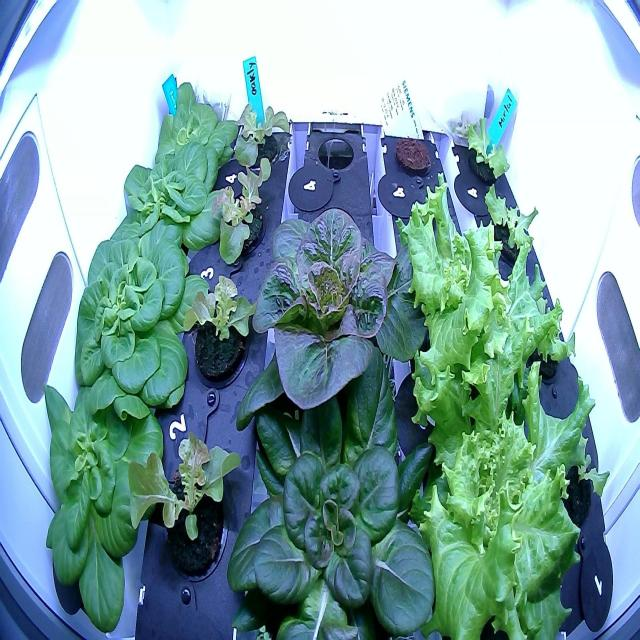empty_pod: (313, 125, 357, 182)
pod: (392, 128, 434, 178)
young: (217, 347, 451, 640), (224, 194, 433, 487), (39, 374, 167, 634), (61, 206, 208, 422), (100, 133, 230, 287), (150, 75, 242, 192)
